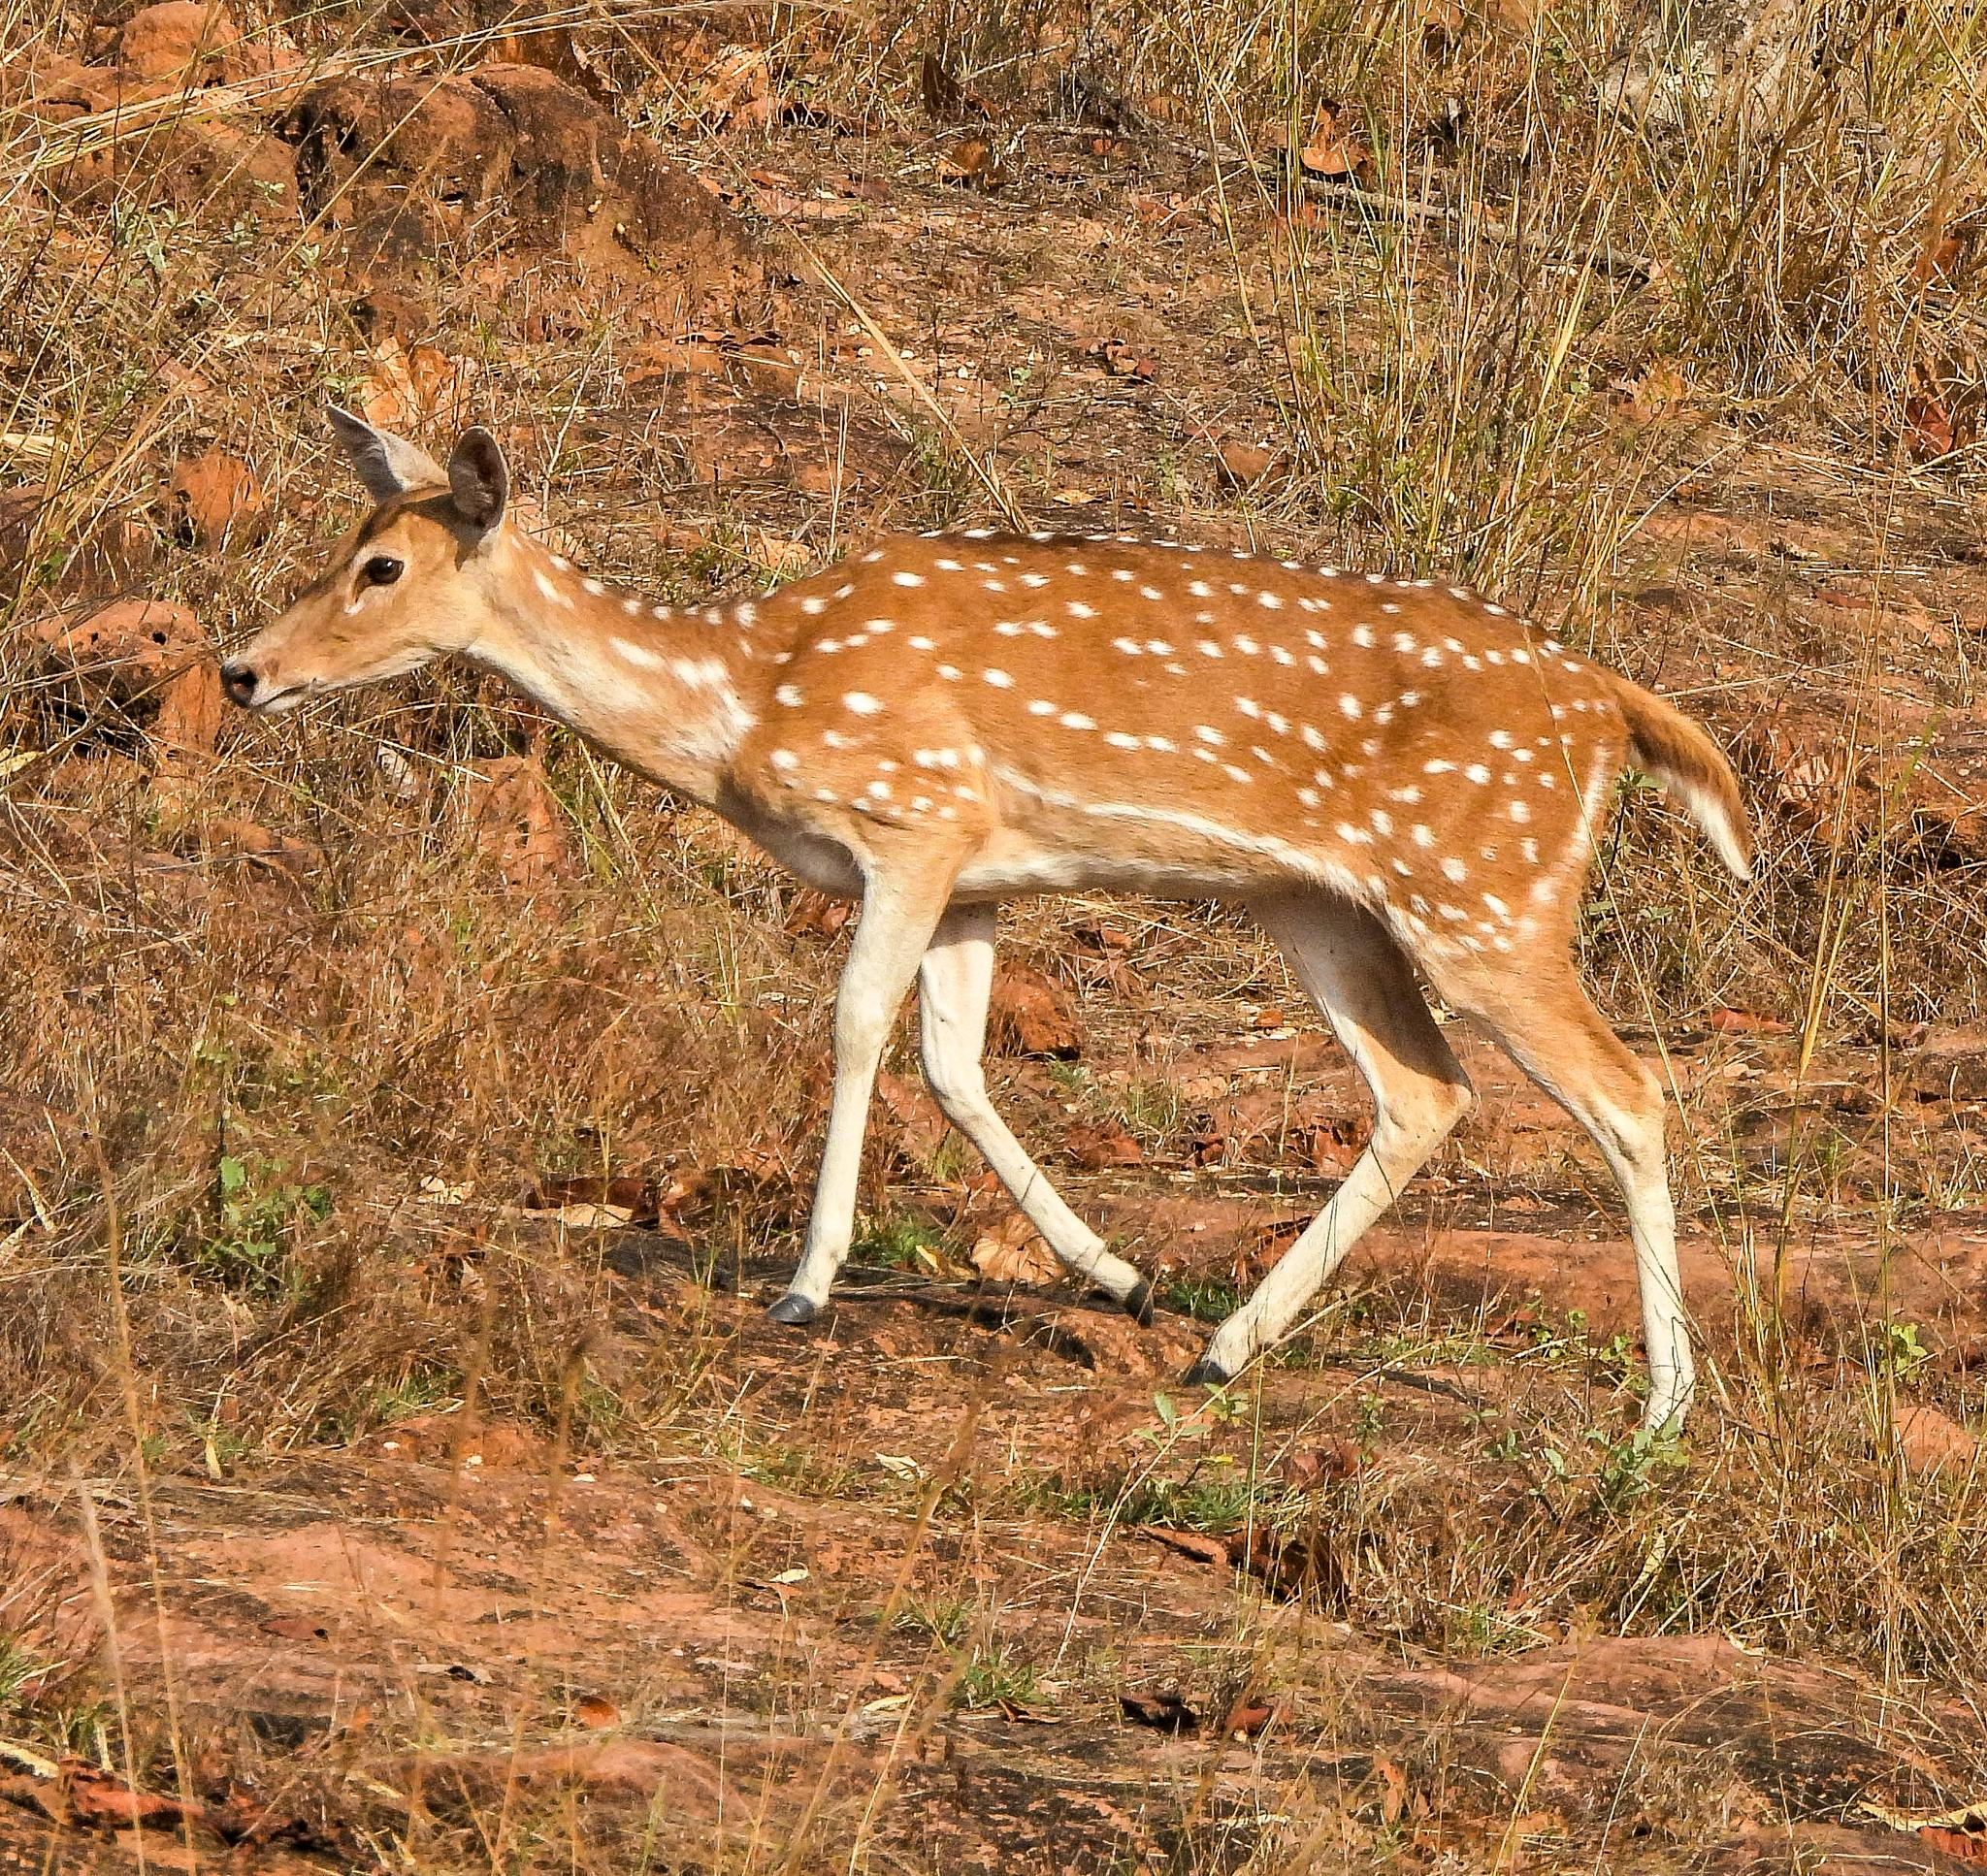Deer: (220, 411, 1753, 1425)
